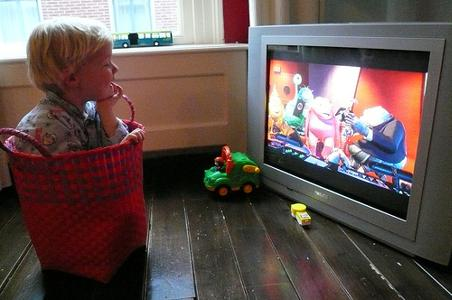person: (15, 16, 145, 160)
